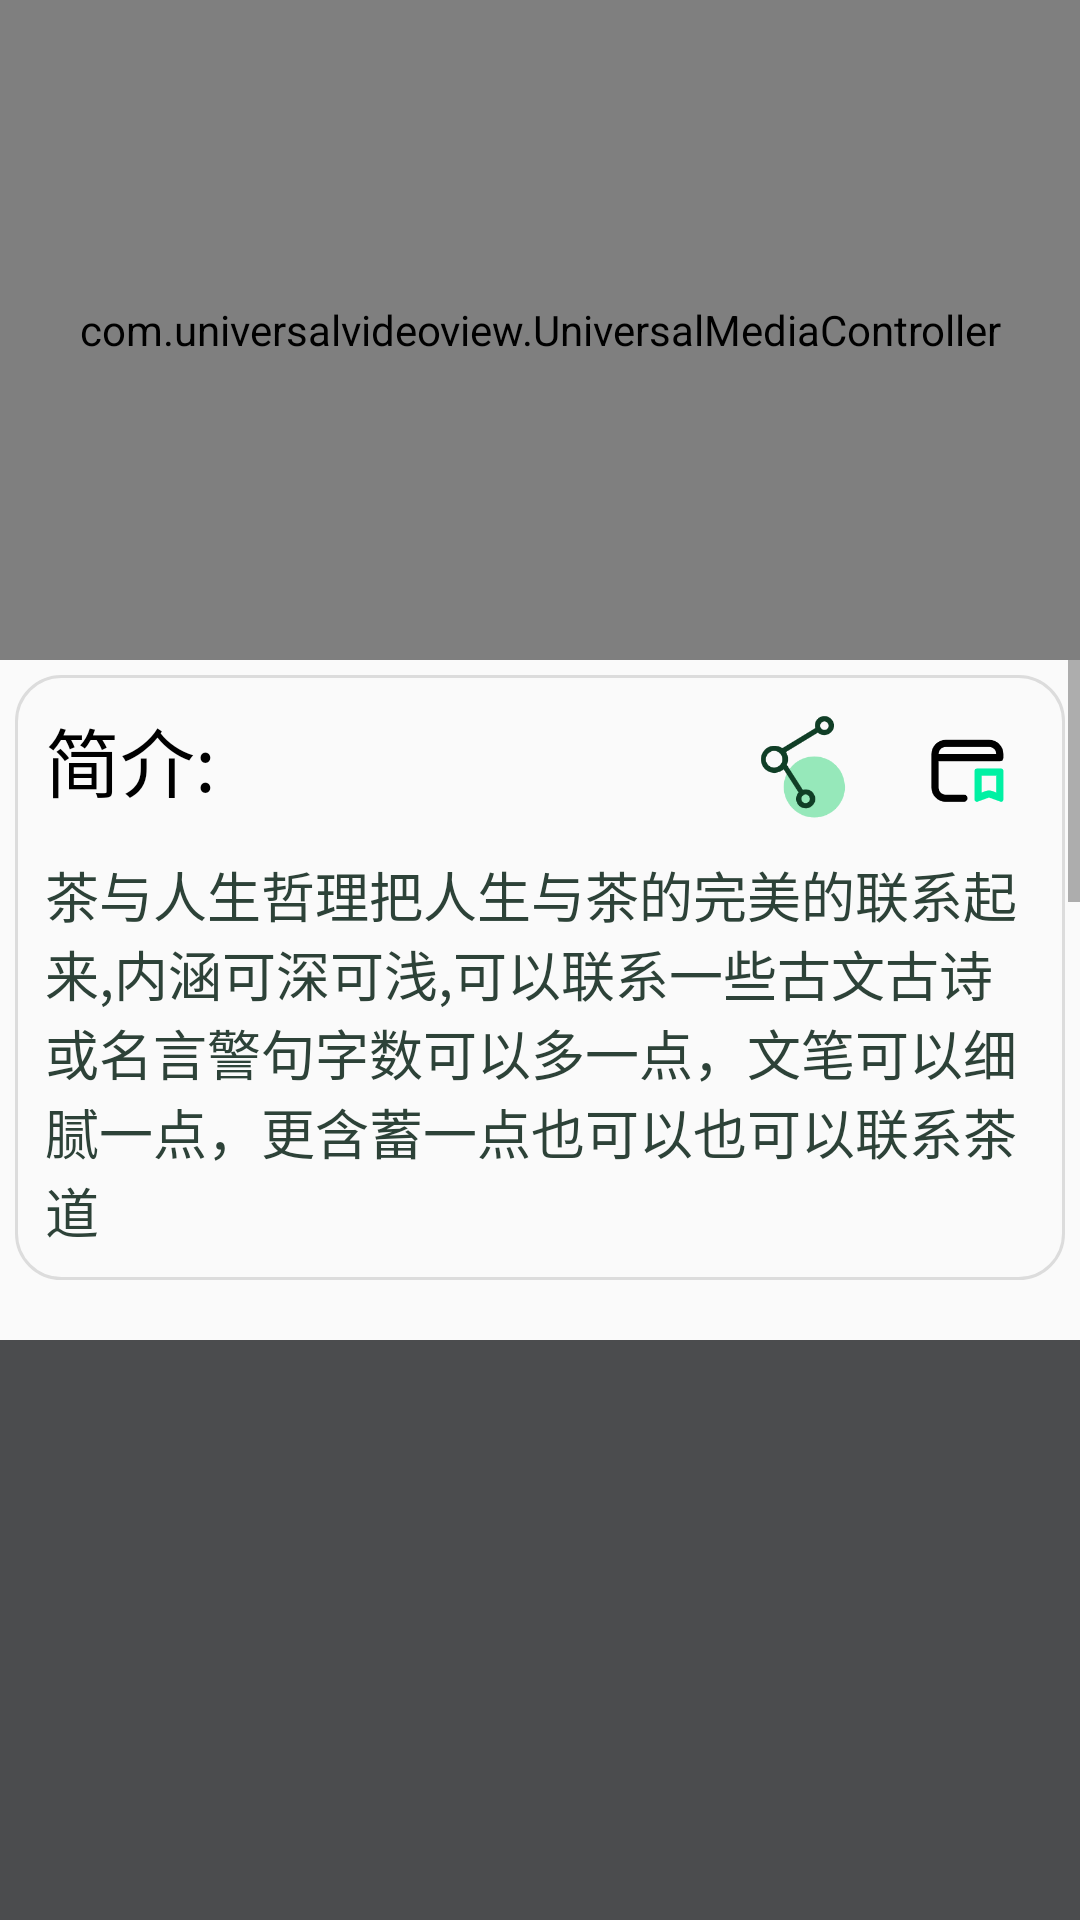

Screen size 1080px×1920px. Icon name, then its box in pixels as (x1, y1, x2, y2):
movie collect: (931, 739, 1004, 802)
movie share: (761, 716, 845, 818)
